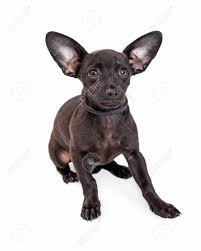chihuahua: (31, 21, 191, 232)
